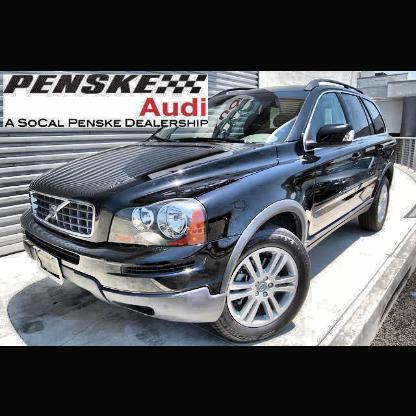Volvo XC90 SUV 2007: (19, 73, 396, 346)
